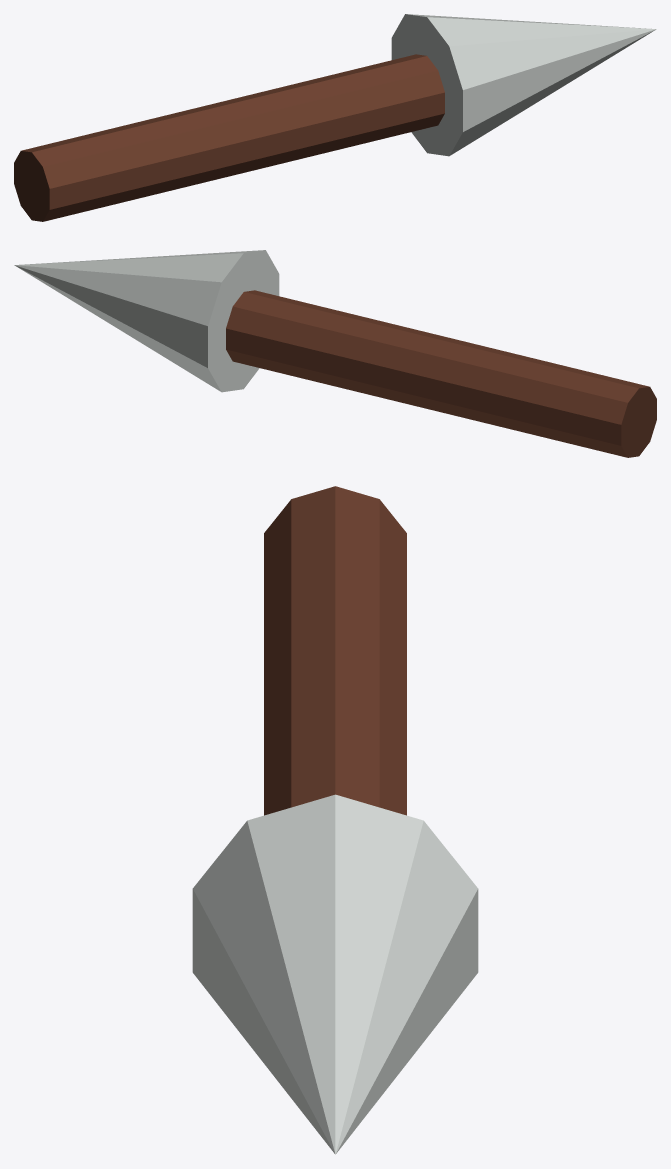
The model's file is Estaca.fbx.
The picture shows the model from 3 angles, top to bottom: view 1: azimuth 30°, elevation 25°; view 2: azimuth 150°, elevation 25°; view 3: azimuth 270°, elevation 25°; orthographic projection. The views are drawn at different scales.
Visible parts, largest first — view 1: polySurface18; view 2: polySurface18; view 3: polySurface18.
Part boxes in pixels (x1=…): polySurface18: x1=14, y1=14, x2=656, y2=221; polySurface18: x1=14, y1=250, x2=656, y2=457; polySurface18: x1=192, y1=486, x2=478, y2=1154.
Size of the model in its own units: 9.62 by 2 by 1.9.
